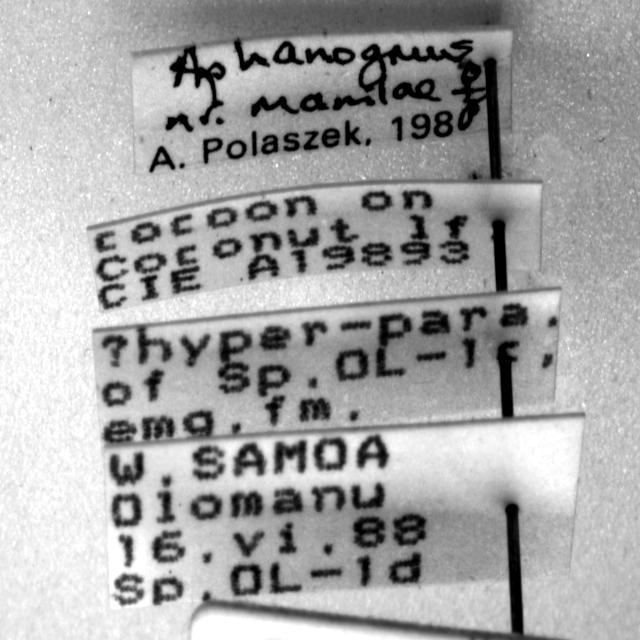mixed_label: (131, 28, 512, 172)
typed_label: (104, 414, 584, 608), (92, 289, 560, 442), (88, 182, 541, 309)
